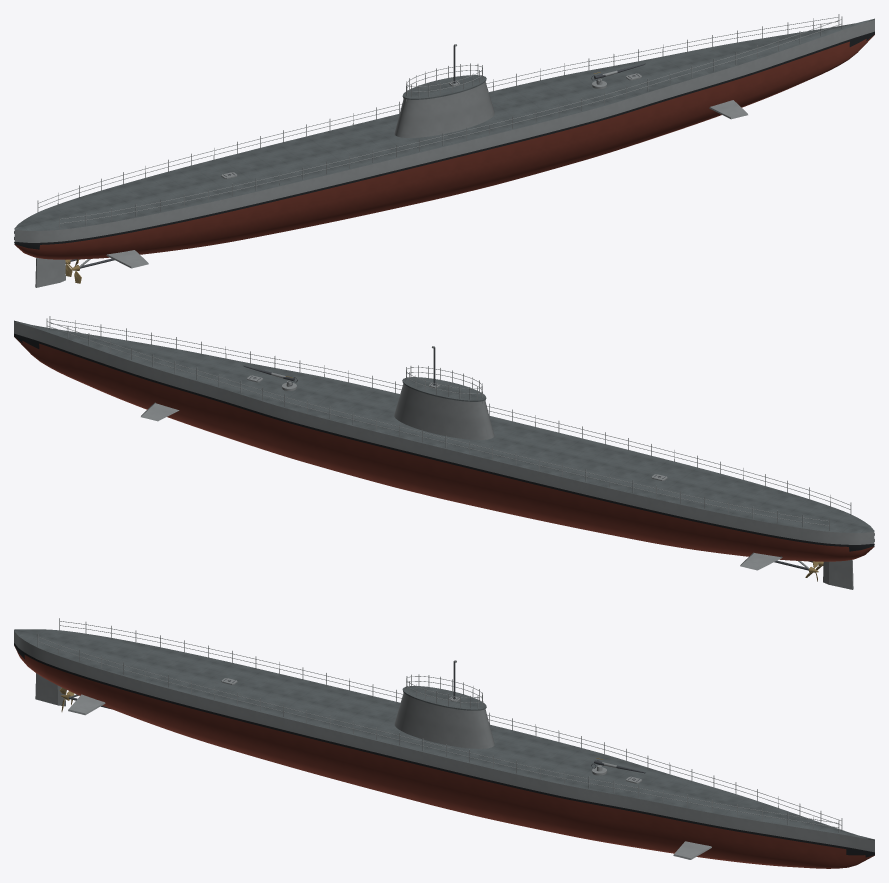
Rendered from fallback-ss.glb.
3 renders of one model, top to bottom at view 1: azimuth 30°, elevation 25°; view 2: azimuth 150°, elevation 25°; view 3: azimuth 330°, elevation 25°, orthographic.
Visible parts, largest first — view 1: Original SS custom-design concept; view 2: Original SS custom-design concept; view 3: Original SS custom-design concept.
Part boxes in pixels (<box>): Original SS custom-design concept: <box>14,14,874,287</box>; Original SS custom-design concept: <box>14,316,874,589</box>; Original SS custom-design concept: <box>14,618,874,868</box>.
Size of the model in its own units: 74 by 11.93 by 9.46.
Materials: 6 (6 with a texture image).
